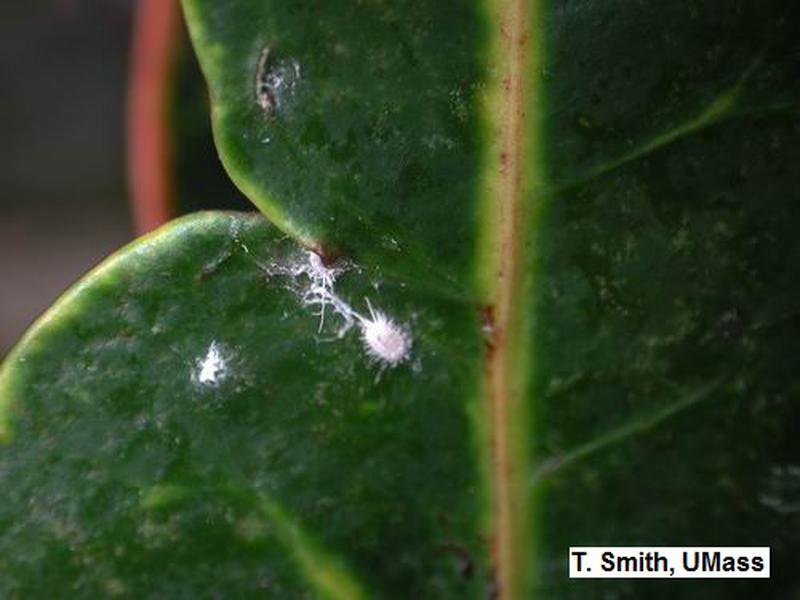Mealy_bug: (263, 235, 414, 404)
